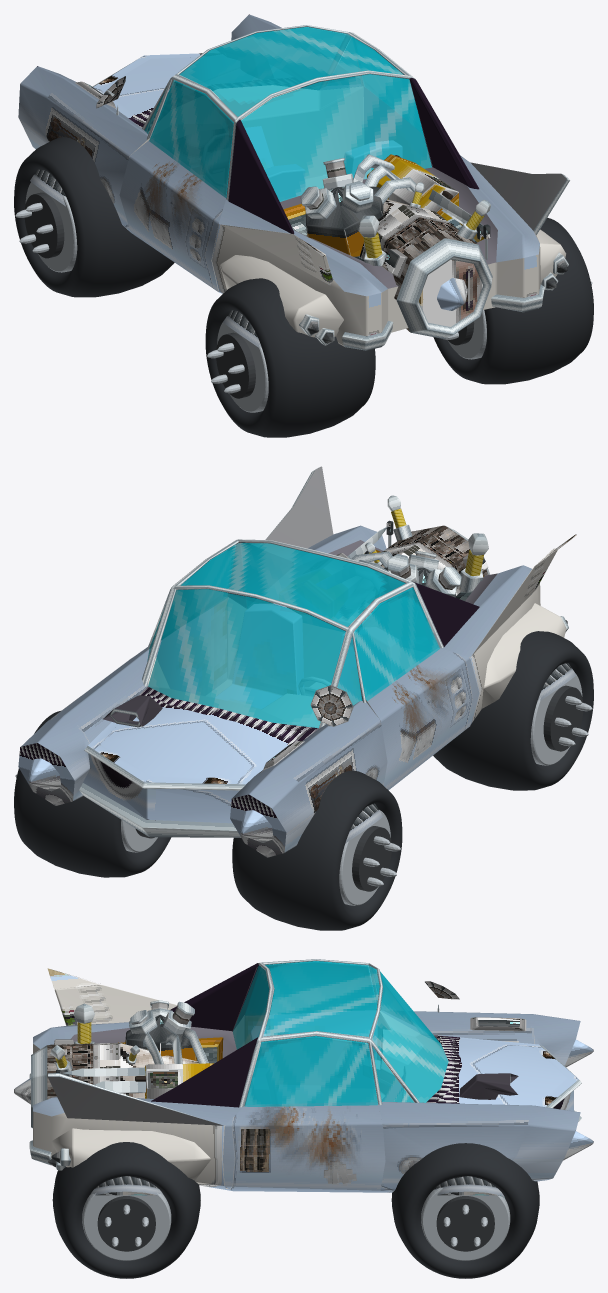
File: car-frink_v.glb
3 views of the same model, one above another, from view 1: azimuth 30°, elevation 25°; view 2: azimuth 150°, elevation 25°; view 3: azimuth 270°, elevation 25° (orthographic). The views are drawn at different scales.
Visible parts, largest first — view 1: frink_vShape.010, frink_vShape.002, frink_vShape.008, Rounded tire.097, frink_vShape.006, Rounded tire.098, frink_vShape.003, Rounded tire.096, DoorDRotShape.070, frink_vShape.005, DoorDRotShape.072, frink_vShape.007 (+13 smaller); view 2: frink_vShape.010, frink_vShape.006, Rounded tire.098, frink_vShape.003, Rounded tire.097, frink_vShape.008, HoodRotShape.013, frink_vShape.002, DoorDRotShape.070, frink_vShape.007, Rounded tire.099, frink_vShape.004 (+12 smaller); view 3: frink_vShape.010, frink_vShape.006, DoorPRotShape.077, frink_vShape.004, frink_vShape.002, Rounded tire.099, Rounded tire.096, frink_vShape.008, DoorPRotShape.079, frink_vShape.005, HoodRotShape.013, DoorDRotShape.072 (+10 smaller).
Part boxes in pixels (x1,y1,x2,y2): frink_vShape.010: [144, 27, 431, 201]; frink_vShape.002: [131, 85, 566, 346]; frink_vShape.008: [92, 25, 569, 350]; Rounded tire.097: [205, 278, 375, 437]; frink_vShape.006: [20, 14, 566, 310]; Rounded tire.098: [14, 137, 174, 297]; frink_vShape.003: [18, 66, 387, 296]; Rounded tire.096: [433, 217, 593, 384]; DoorDRotShape.070: [119, 139, 226, 291]; frink_vShape.005: [75, 81, 490, 332]; DoorDRotShape.072: [149, 80, 233, 197]; frink_vShape.007: [221, 126, 567, 343]; frink_vShape.010: [147, 542, 405, 728]; frink_vShape.006: [18, 466, 497, 857]; Rounded tire.098: [232, 770, 402, 930]; frink_vShape.003: [232, 565, 531, 852]; Rounded tire.097: [433, 631, 593, 790]; frink_vShape.008: [79, 467, 568, 837]; HoodRotShape.013: [100, 693, 304, 778]; frink_vShape.002: [140, 583, 566, 727]; DoorDRotShape.070: [366, 648, 479, 790]; frink_vShape.007: [215, 536, 572, 708]; Rounded tire.099: [14, 711, 171, 877]; frink_vShape.004: [21, 525, 386, 800]; frink_vShape.010: [233, 961, 448, 1102]; frink_vShape.006: [14, 963, 593, 1160]; DoorPRotShape.077: [223, 1102, 385, 1190]; frink_vShape.004: [33, 1097, 580, 1192]; frink_vShape.002: [33, 1011, 448, 1190]; Rounded tire.099: [391, 1143, 539, 1278]; Rounded tire.096: [52, 1142, 200, 1278]; frink_vShape.008: [29, 959, 581, 1170]; DoorPRotShape.079: [244, 1036, 377, 1106]; frink_vShape.005: [47, 971, 526, 1099]; HoodRotShape.013: [435, 1036, 566, 1105]; DoorDRotShape.072: [245, 961, 377, 1014].
Size of the model in its own units: 3.41 by 2.37 by 5.3.
15 materials, 12 textured.
